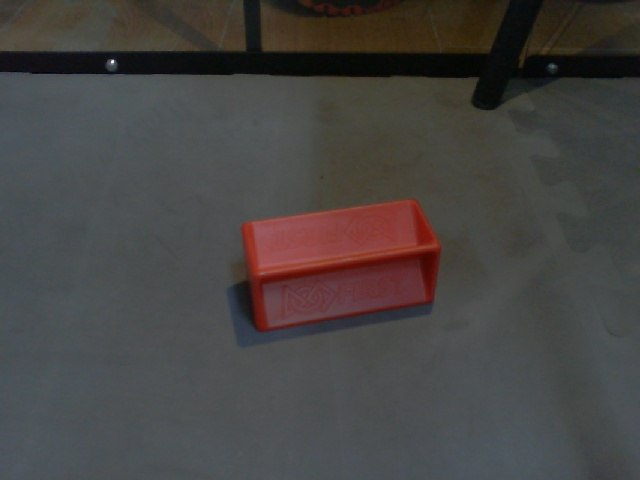RedSample: (238, 197, 441, 334)
